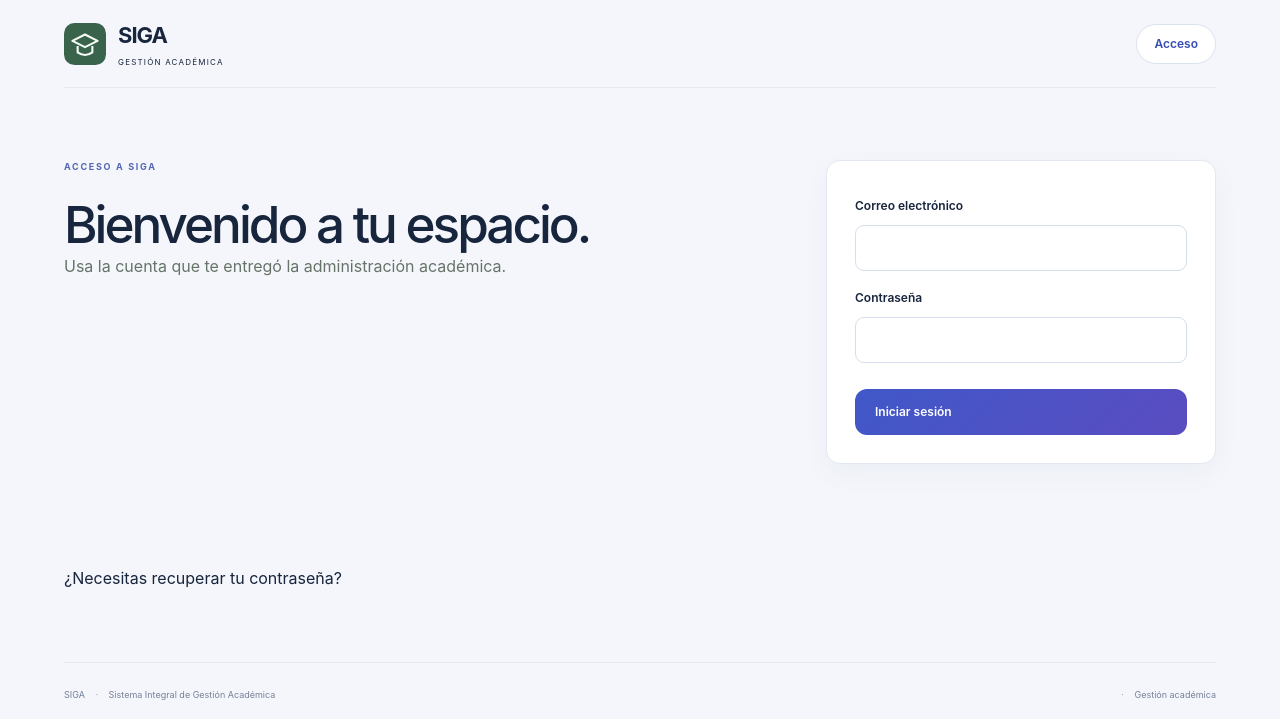
Test case: Portal y acceso › explica un acceso rechazado sin mostrar credenciales en el error
Type "ana@example.invalid" into the field labelled "Correo electrónico".
click(1021, 248); type("ana@example.invalid")  # box top-left (855, 225), bottom-right (1187, 271)
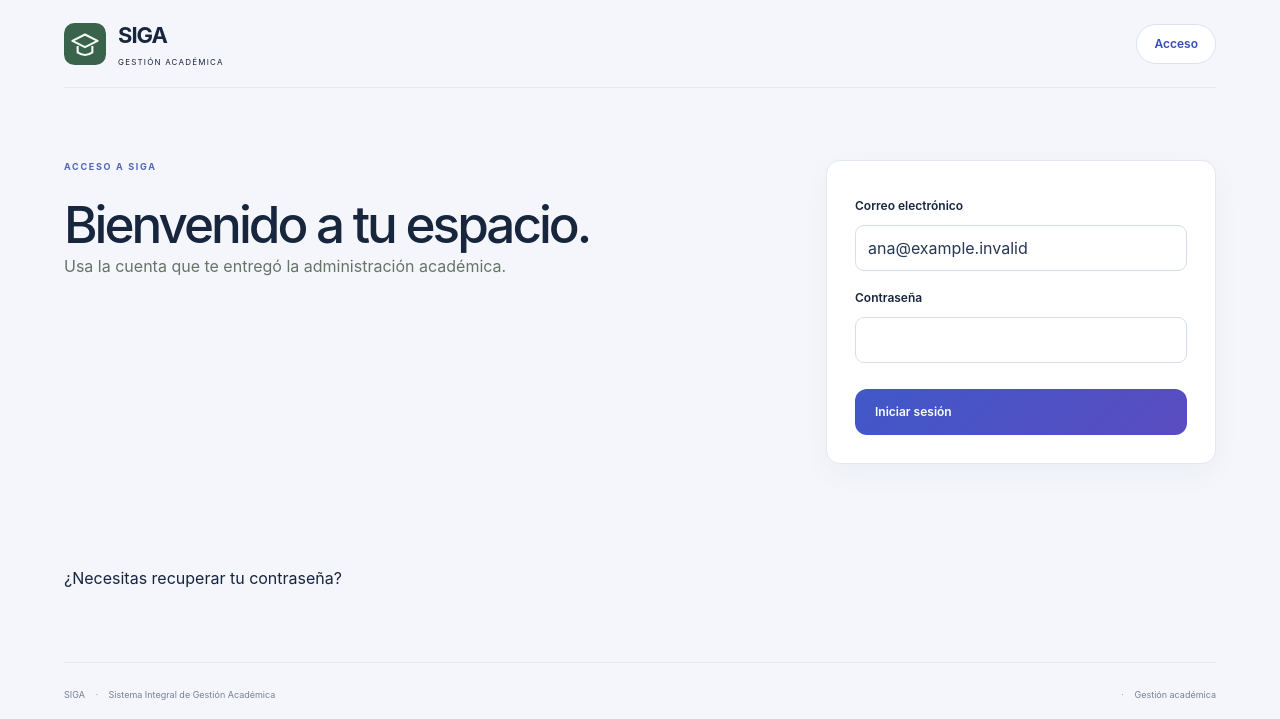
Type "incorrecta" into the password field labelled "Contraseña".
click(1021, 340); type("incorrecta")  # box top-left (855, 317), bottom-right (1187, 363)
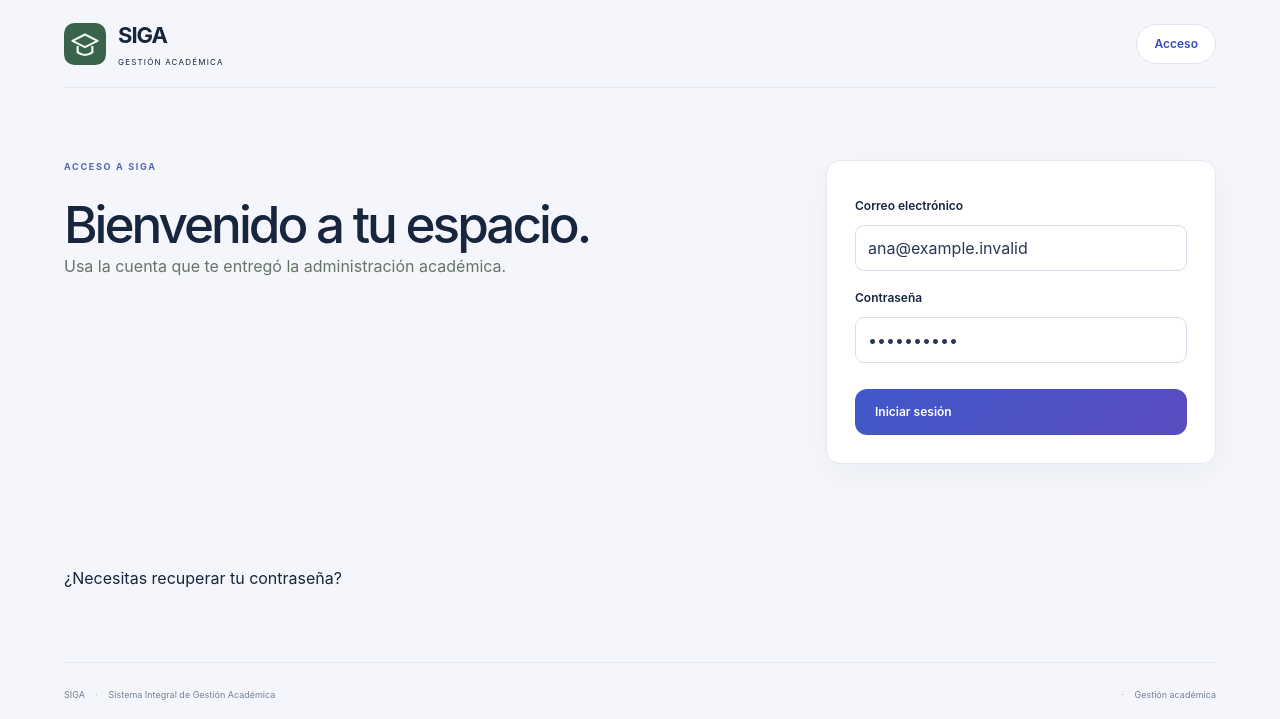
Click the button "Iniciar sesión".
click(913, 412)  # box top-left (855, 389), bottom-right (1187, 435)
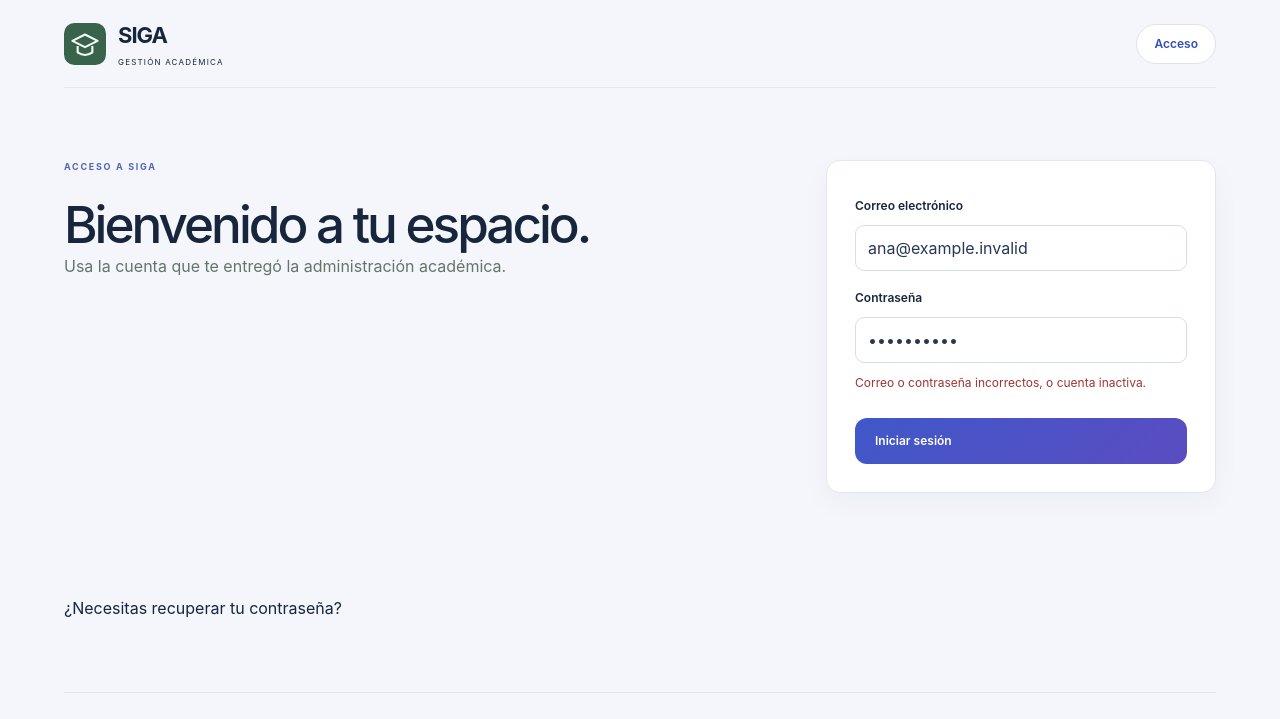
Check: the message shows "Correo o contraseña incorrectos", box top-left (855, 375), bottom-right (1146, 390)
